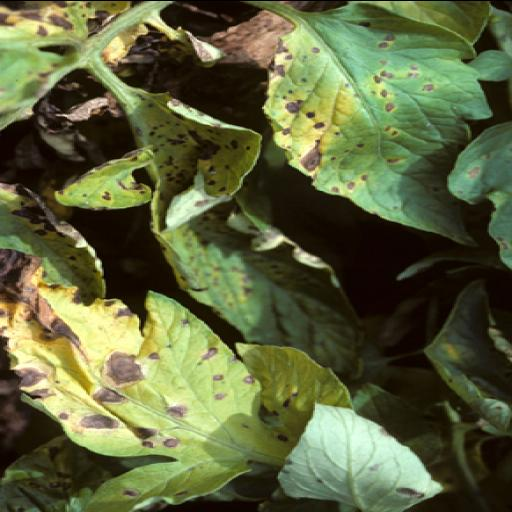disease_tomato: (52, 90, 366, 384), (0, 253, 291, 512), (258, 4, 488, 242)
